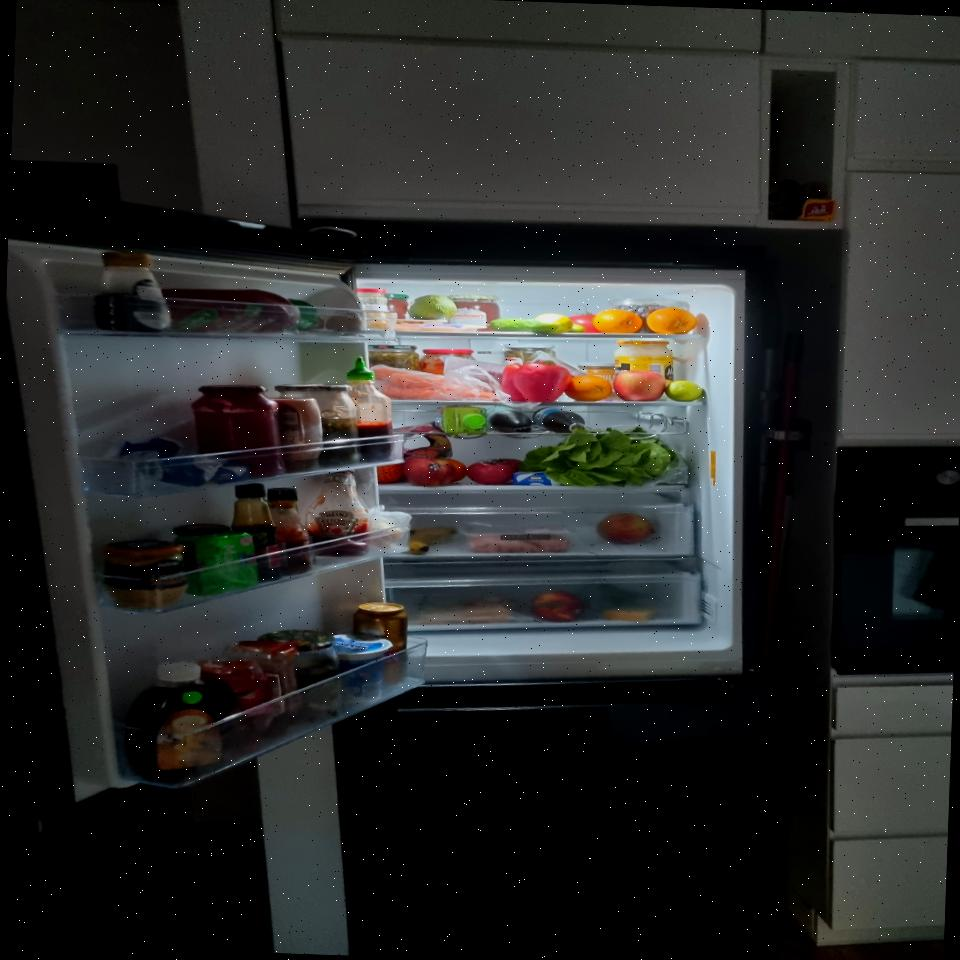Aguacate: (406, 294, 458, 320)
Carne pollo: (466, 530, 570, 556)
Huevos: (326, 310, 364, 330)
Lechuga/Endivia: (522, 424, 690, 490)
Mantequilla: (118, 434, 251, 490), (172, 528, 259, 599), (512, 470, 562, 486)
Manzana: (595, 511, 656, 545), (612, 370, 666, 403), (402, 455, 456, 487), (532, 590, 584, 622)
Pepino: (487, 317, 561, 334), (568, 324, 586, 333)
Plátano: (403, 524, 458, 556)
Queso: (415, 597, 512, 628), (601, 604, 660, 624), (396, 322, 489, 334)
Tomate: (466, 460, 514, 485), (568, 312, 605, 334), (489, 458, 523, 472)
Yogur: (329, 634, 392, 708)
Zanahoria: (370, 364, 504, 403)
